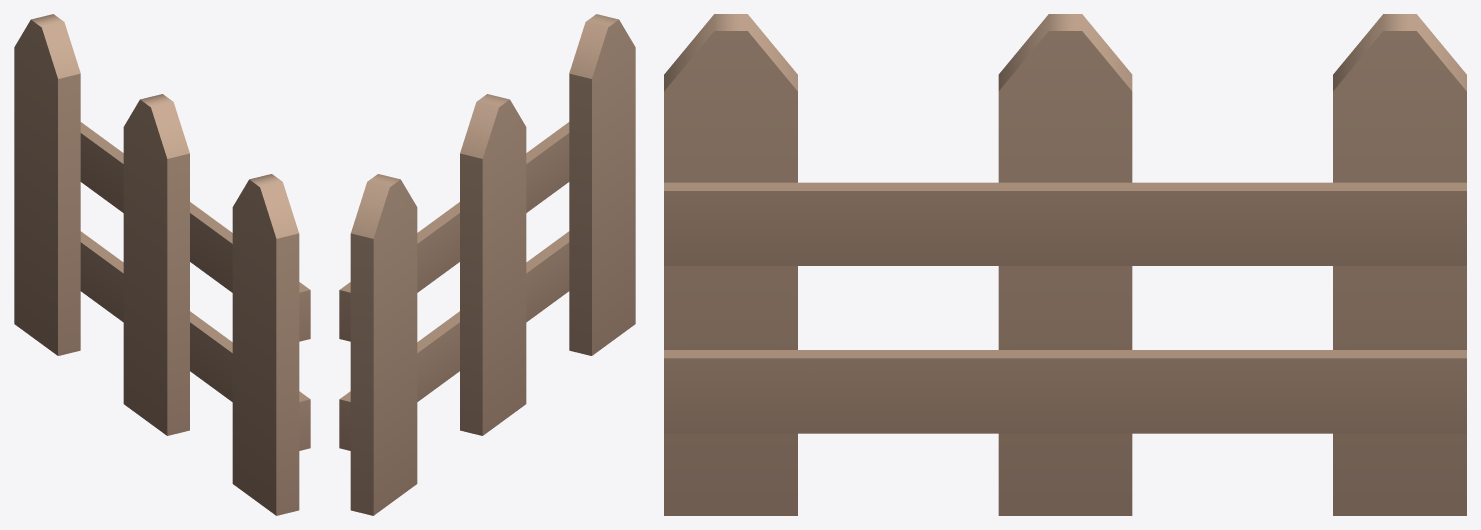
File: fence-picket.glb
3 renders of one model, left to right at view 1: azimuth 30°, elevation 25°; view 2: azimuth 150°, elevation 25°; view 3: azimuth 270°, elevation 25°, orthographic. The views are drawn at different scales.
Parts seen in each view (by area): view 1: fence-picket; view 2: fence-picket; view 3: fence-picket.
Part boxes in pixels (x1,y1,x2,y2): fence-picket: (14,14,310,515); fence-picket: (339,14,635,515); fence-picket: (664,14,1466,515).
Bounding box in the file's own units: 0.0945 × 0.84 × 1.26.
